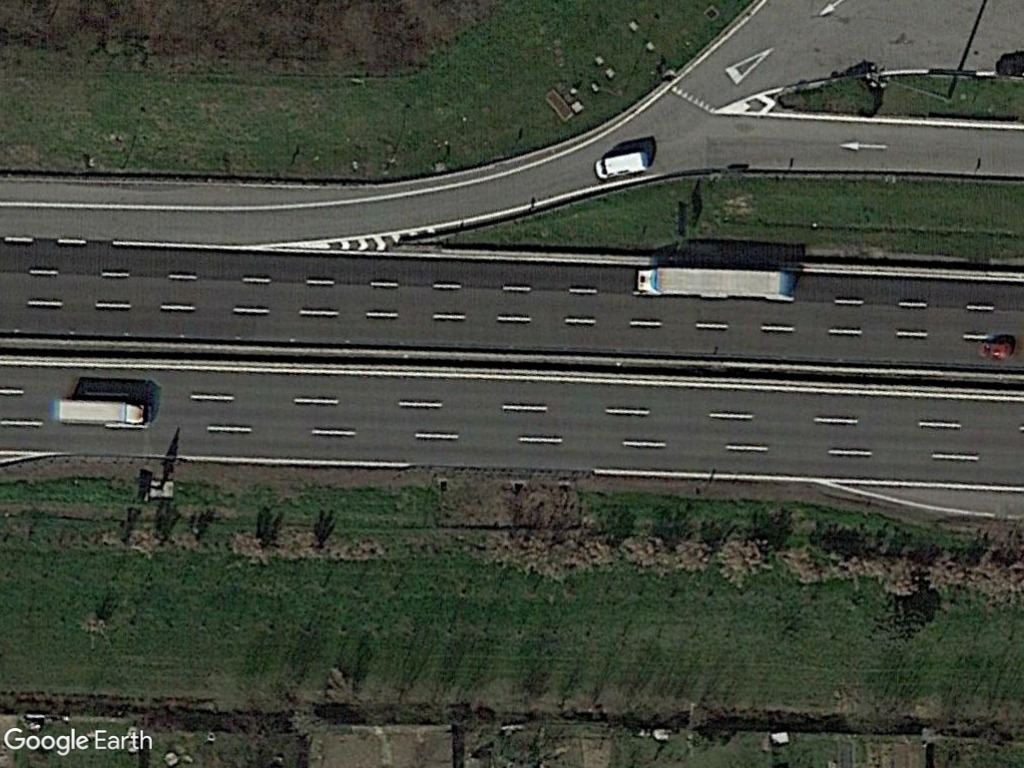longvehicle: (630, 266, 800, 304)
truck: (52, 394, 157, 430)
van: (591, 151, 654, 181)
